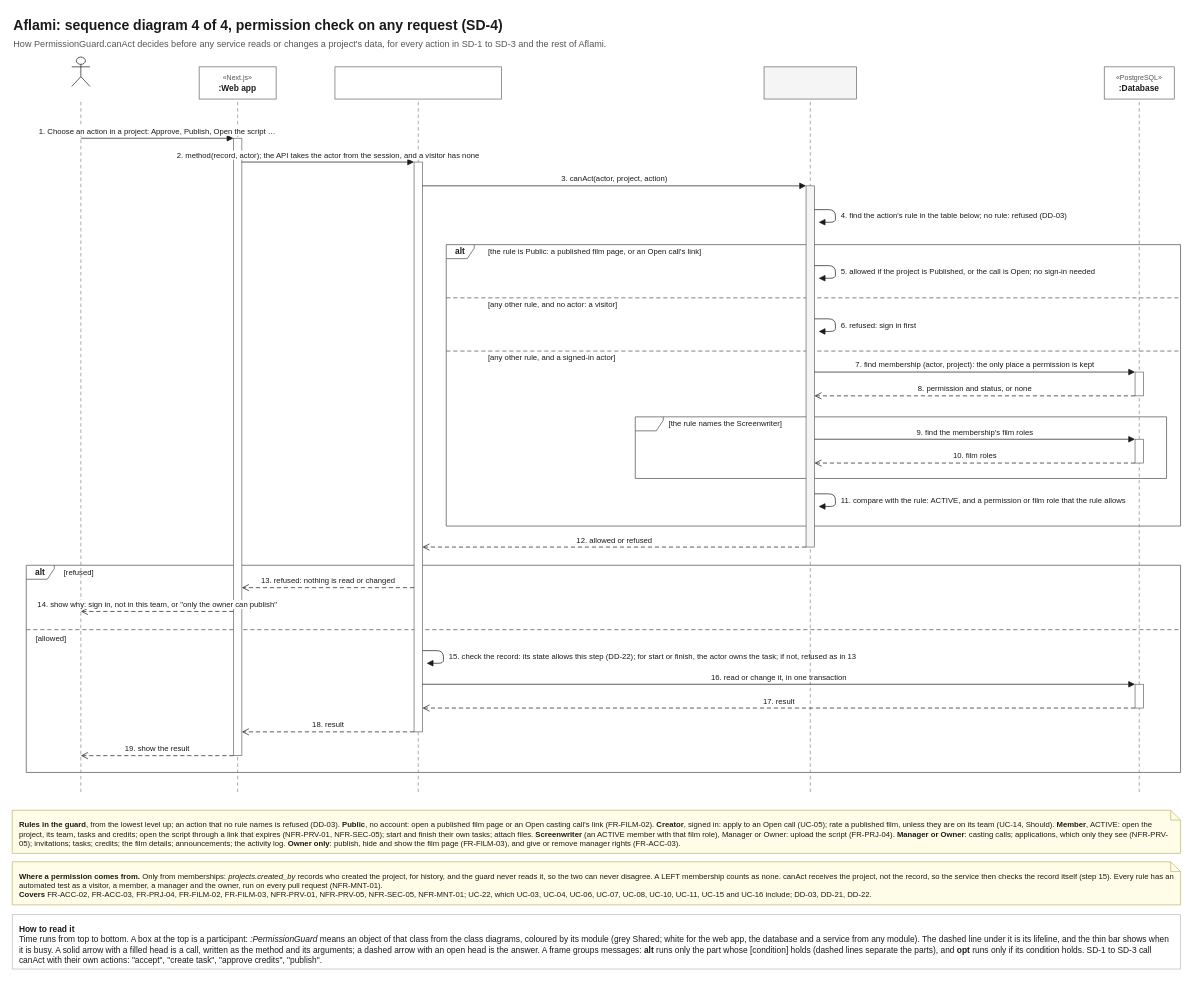
Some shapes in this 1201 by 981 pixel diagram are drawn without their labels. The shapes that lost their labels are listed below. From the top down, each one's box as (x1, y1, x2, y2) in pixels, then its label:
(71, 56, 90, 86): Signed-in user or visitor
(334, 66, 502, 99): «service» any module :ApplicationService, :TaskService …
(763, 66, 856, 99): «service» Shared :PermissionGuard
(635, 416, 1167, 478): opt
